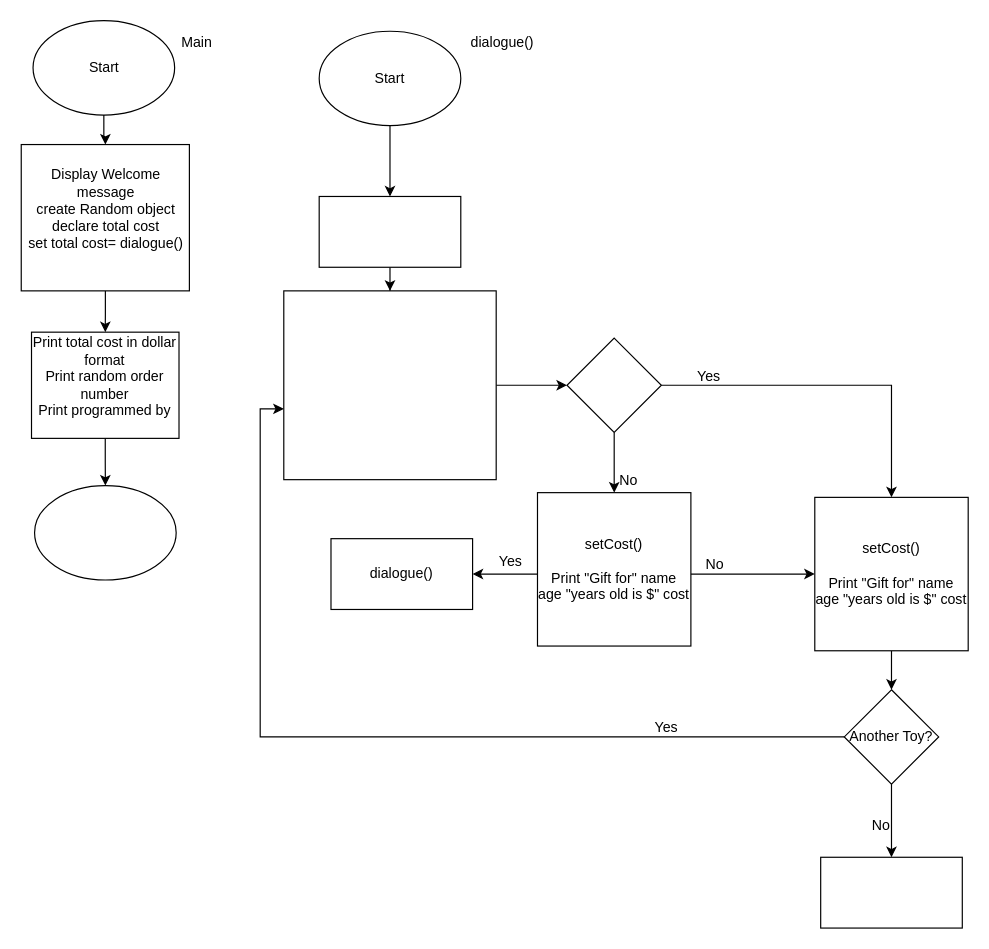
The diagram is 989 pixels wide and 949 high, and some of its shapes have lost their labels. Here are the shapes that lost their labels. From the top down, the centre of each, then its label:
At point 389,231: "Create new Toy object".
At point 389,385: "Enter name, Enter age setAge() Choose Toy setToy()".
At point 613,384: "ageOK() ?".
At point 104,532: "Stop".
At point 891,892: "return Cost".
